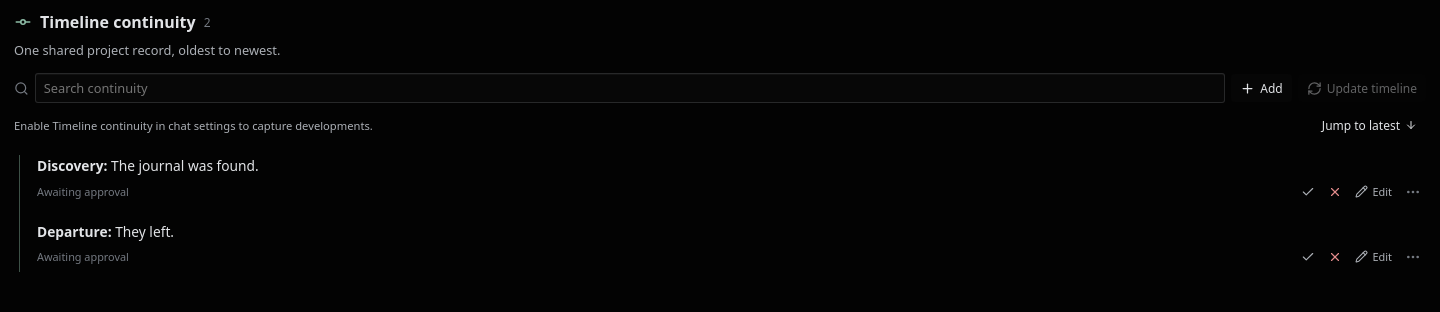
Test case: approves and denies suggestions without sending pending content to the AI
Click the button named "Approve Discovery".
click(1308, 192)  # box [1296, 180, 1320, 204]
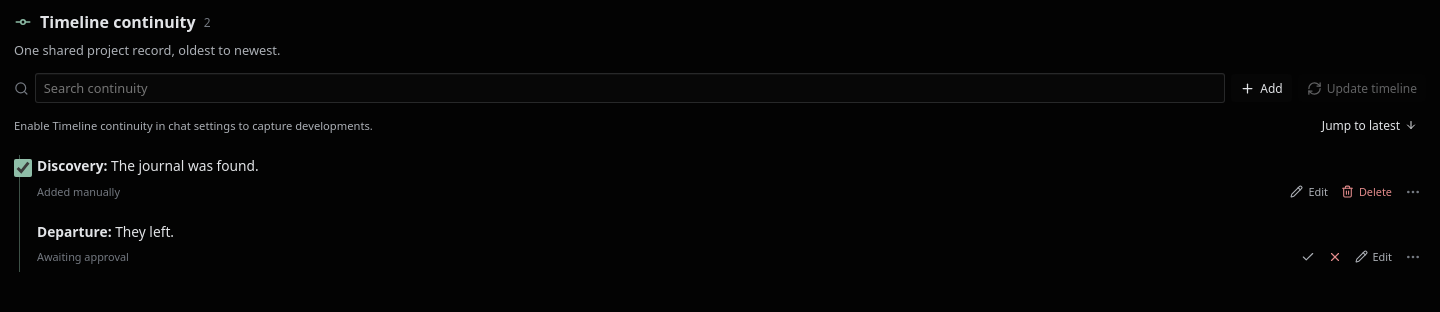
Result: the checkbox named "Include Discovery in AI context" is shown at [14, 159, 32, 177]
Click the button named "Deny Departure".
click(1334, 257)  # box [1322, 245, 1346, 269]
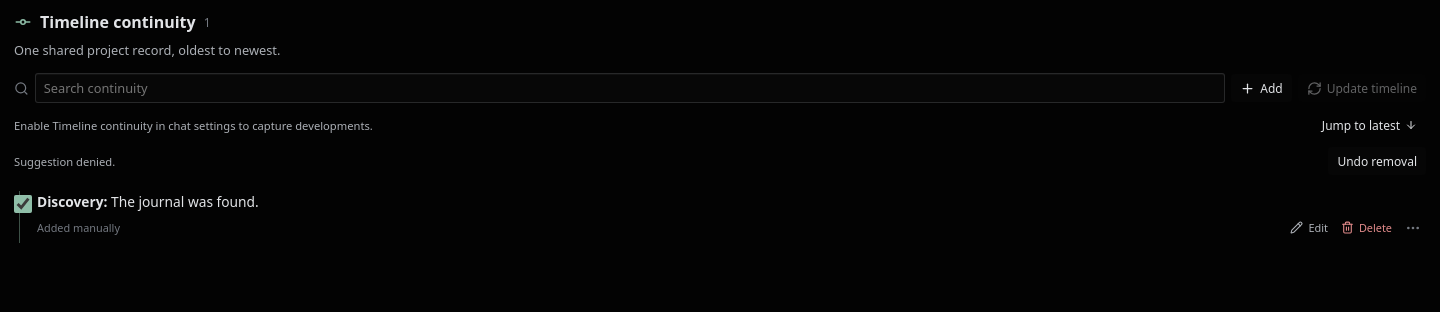
Result: the text "Suggestion denied." is shown at [14, 154, 115, 169]
Click the button "Undo removal".
click(1377, 161)  # box [1328, 147, 1426, 175]
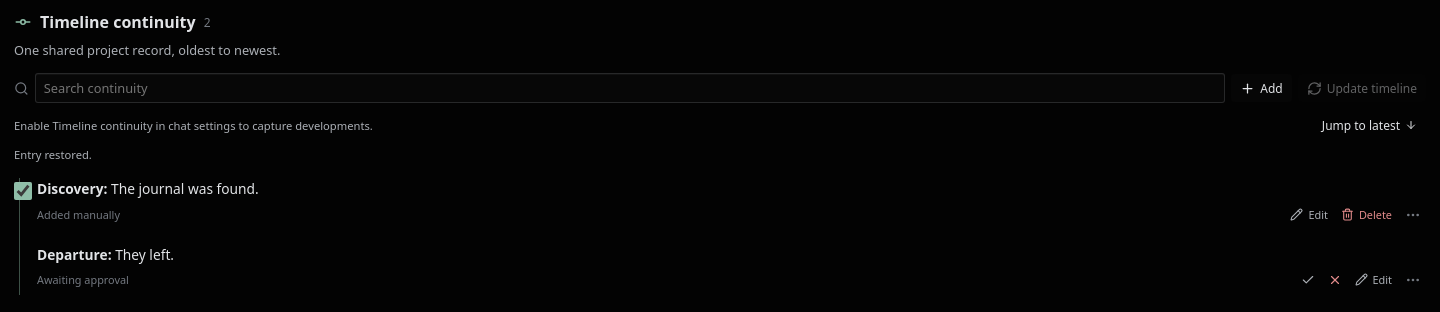
Result: the button named "Approve Departure" is shown at [1296, 268, 1320, 292]
